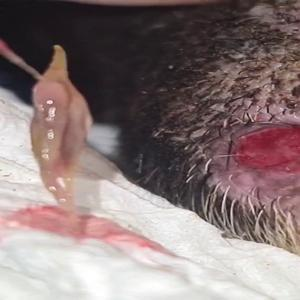skin_lesions: (225, 113, 299, 178)
